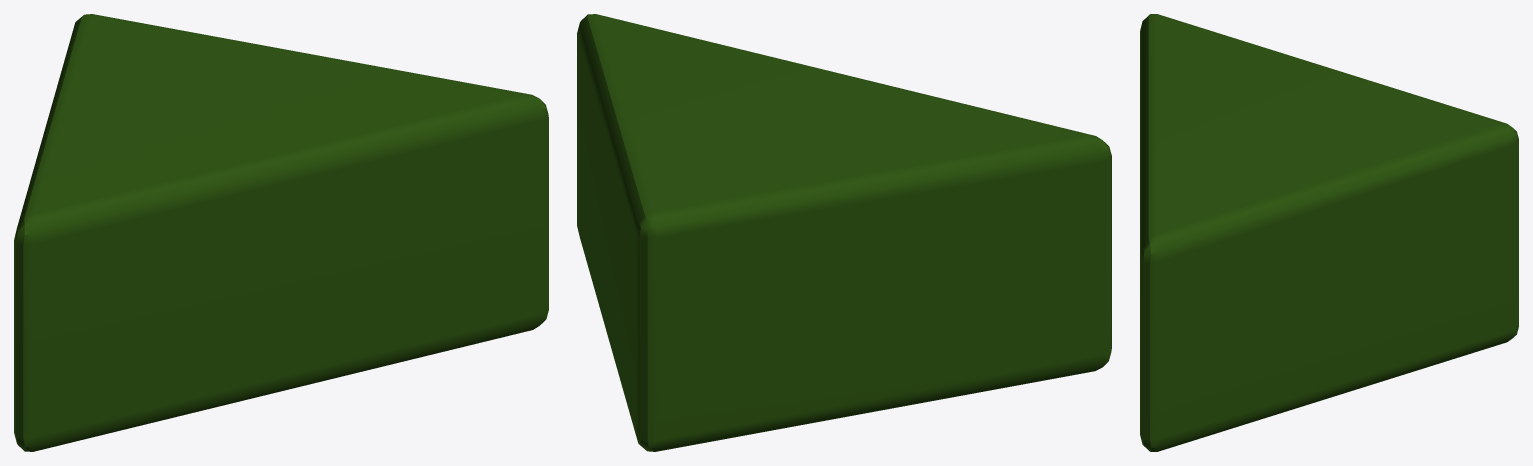
File: 3D_TowerDirection_Arrow.fbx
3 renders of one model, left to right at view 1: azimuth 30°, elevation 25°; view 2: azimuth 150°, elevation 25°; view 3: azimuth 270°, elevation 25°, orthographic. The views are drawn at different scales.
Parts seen in each view (by area): view 1: TowerDirectionArrow; view 2: TowerDirectionArrow; view 3: TowerDirectionArrow.
Boxes of the visible parts, box(x1,y1,x2,y2) form: TowerDirectionArrow: box(14, 14, 548, 451); TowerDirectionArrow: box(577, 14, 1111, 451); TowerDirectionArrow: box(1140, 14, 1518, 451).
Bounding box in the file's own units: 12.16 × 5.22 × 8.19.
